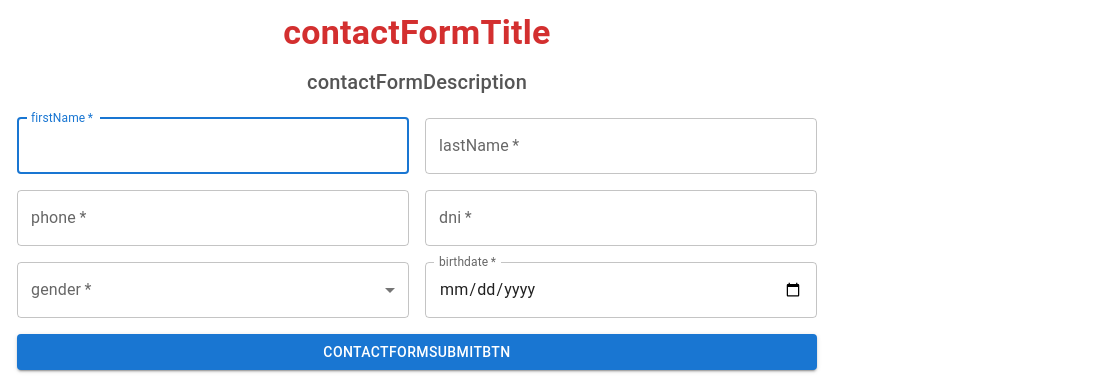
ContactForm › shows success snackbar message on successful form submission
Type "John" into the field with test id "firstName" at (213, 146), box [17, 118, 409, 174]
Type "Doe" into the field with test id "lastName" at (621, 146), box [425, 118, 817, 174]
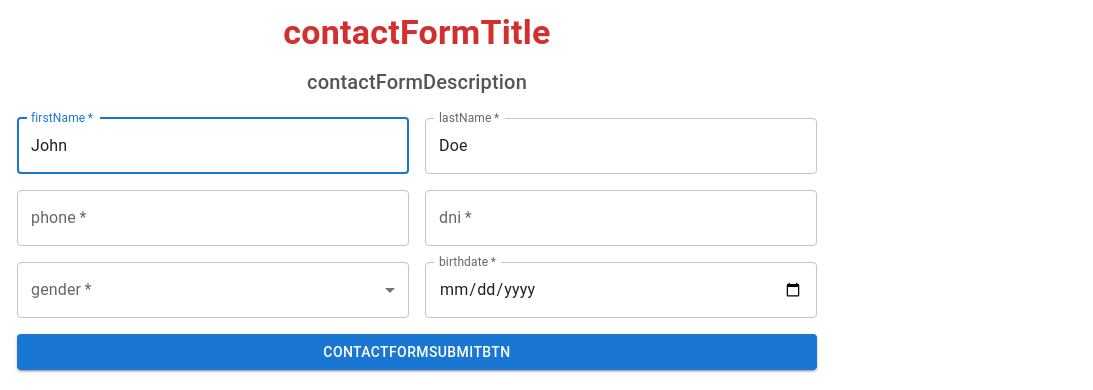
Type "123456789" into the field with test id "phone" at (213, 218), box [17, 190, 409, 246]
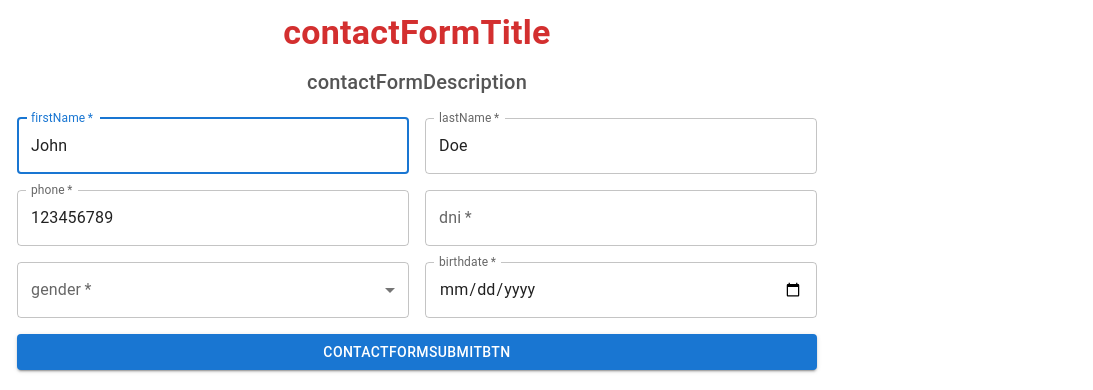
Type "12345678Z" into the field with test id "dni" at (621, 218), box [425, 190, 817, 246]
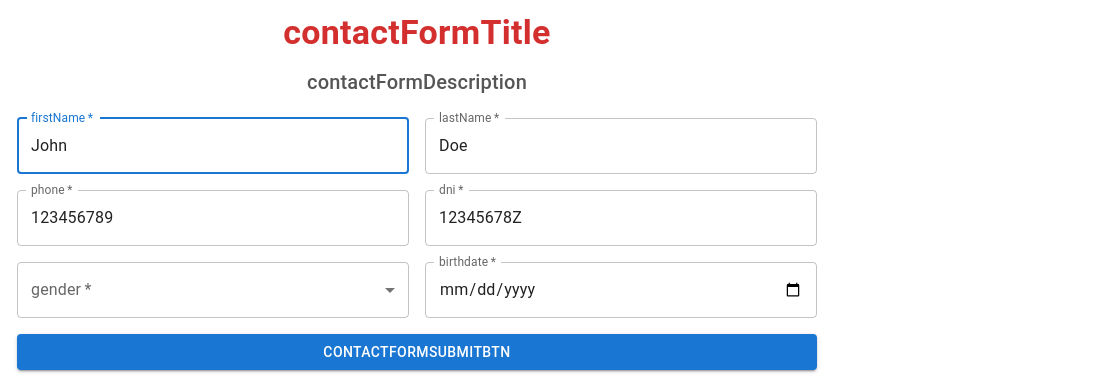
Replace the text in the field with test id "gender" with "male" at (213, 290), box [17, 262, 409, 318]
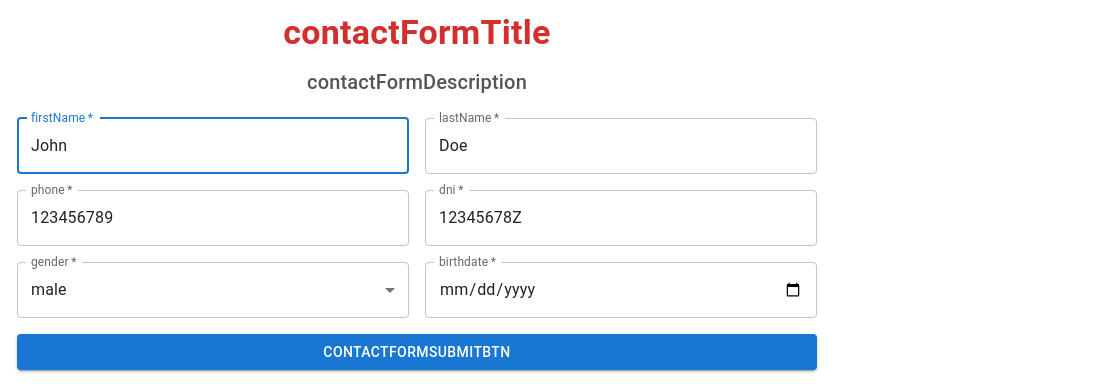
Type "1990-01-01" into the date field with test id "birthDate" at (621, 290), box [425, 262, 817, 318]
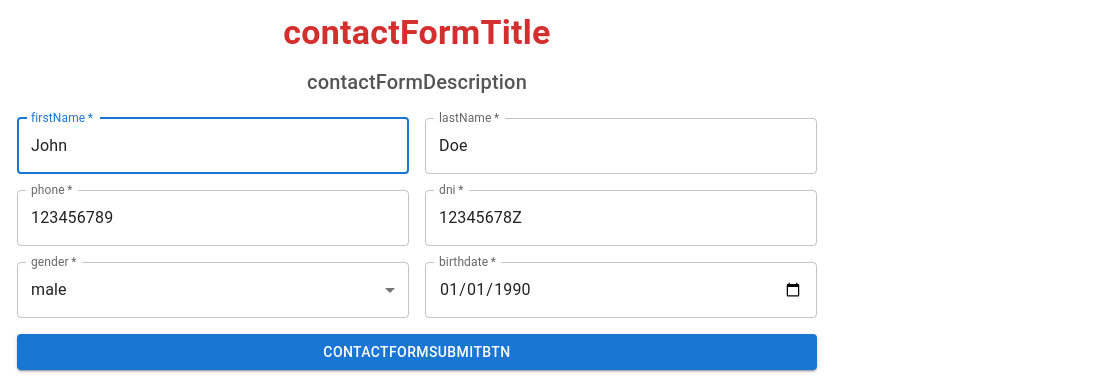
Click the button "contactFormSubmitBtn" at (417, 352), box [17, 334, 817, 370]
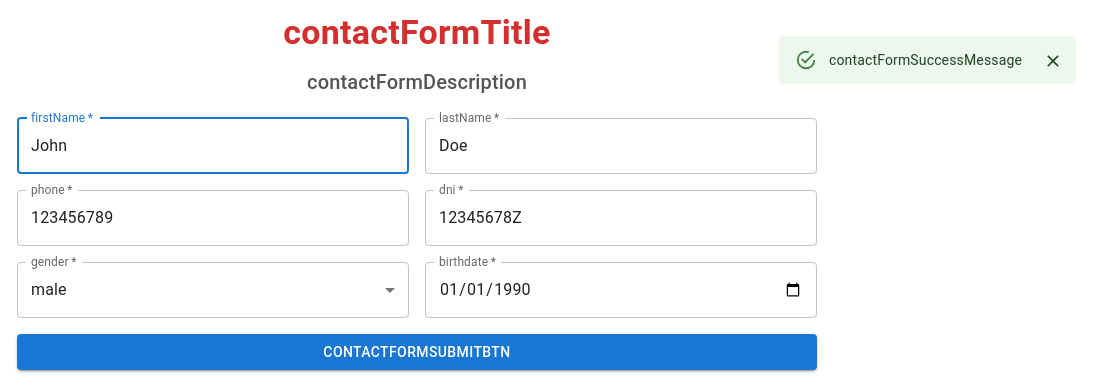
Now the text "contactFormSuccessMessage" is shown, box [829, 52, 1022, 68]
